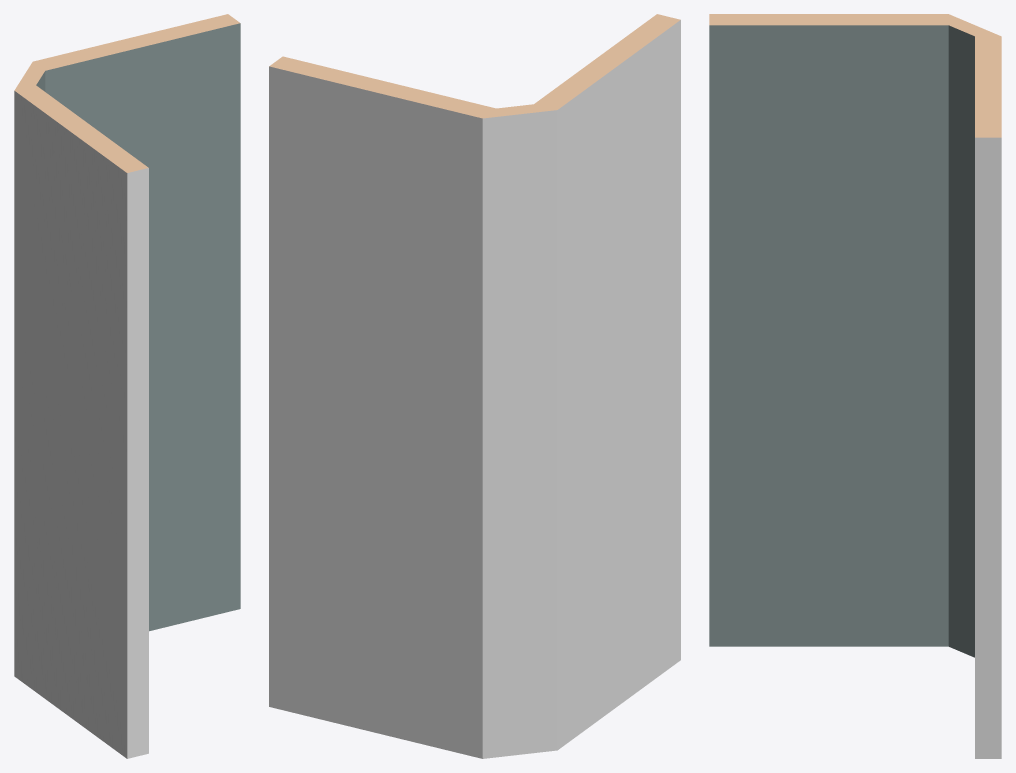
Rendered from wallCorner.fbx.
The picture shows the model from 3 angles, left to right: view 1: azimuth 30°, elevation 25°; view 2: azimuth 150°, elevation 25°; view 3: azimuth 270°, elevation 25°; orthographic projection. The views are drawn at different scales.
Parts seen in each view (by area): view 1: wallCorner; view 2: wallCorner; view 3: wallCorner.
Boxes of the visible parts, x1=… form: wallCorner: x1=14, y1=14, x2=240, y2=758; wallCorner: x1=269, y1=14, x2=680, y2=758; wallCorner: x1=709, y1=14, x2=1001, y2=758.
Size of the model in its own units: 550 by 1290 by 550.
